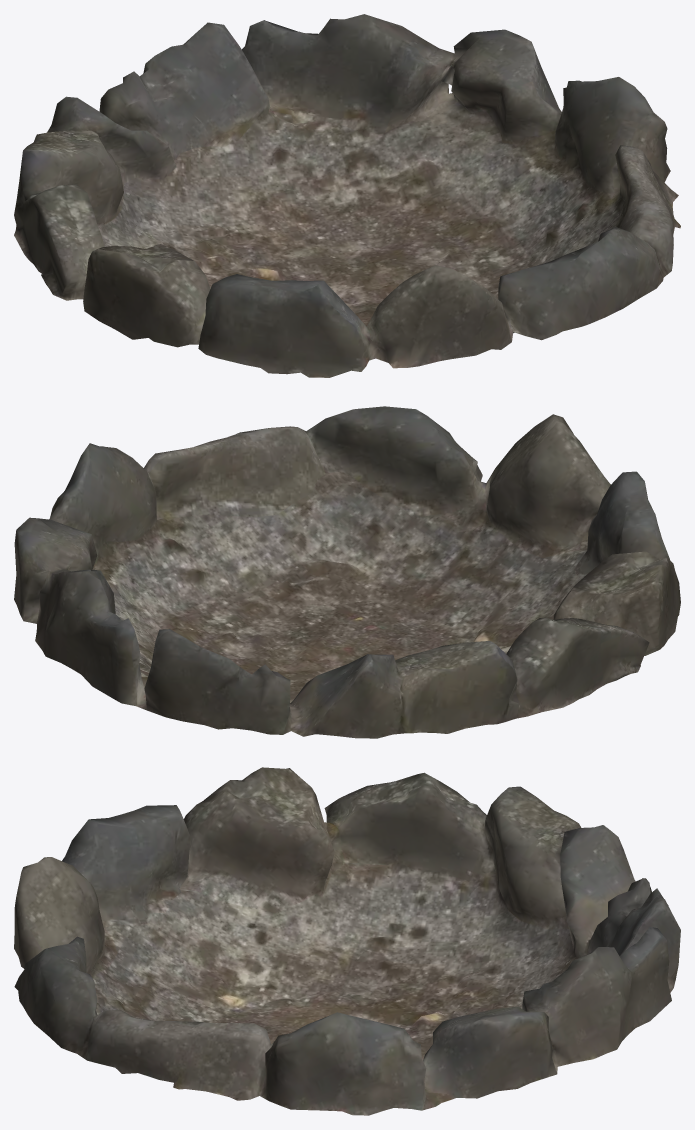
The model's file is stone_fire_pit.glb.
3 renders of one model, top to bottom at view 1: azimuth 30°, elevation 25°; view 2: azimuth 150°, elevation 25°; view 3: azimuth 270°, elevation 25°, orthographic.
Parts seen in each view (by area): view 1: stone_fire_pit; view 2: stone_fire_pit; view 3: stone_fire_pit.
Part boxes in pixels (left/top/right/bottom): stone_fire_pit: left=14, top=14, right=680, bottom=377; stone_fire_pit: left=14, top=406, right=680, bottom=738; stone_fire_pit: left=14, top=767, right=680, bottom=1115.
Size of the model in its own units: 1.45 by 0.3883 by 1.43.
Materials: 1 (1 with a texture image).
